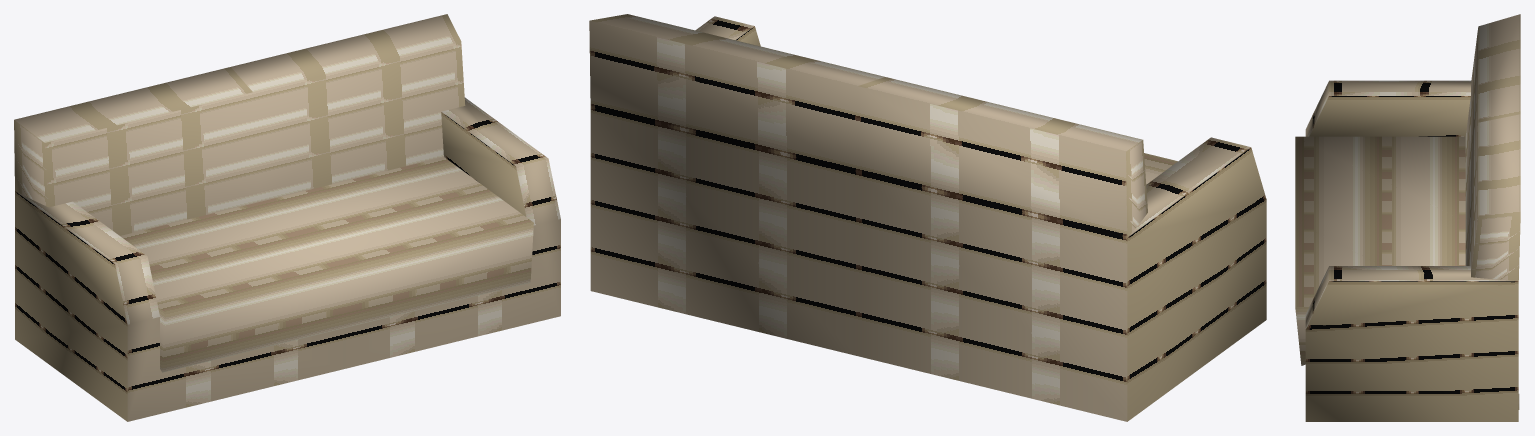
Rendered from 3225IMSD01_11.gltf.
The picture shows the model from 3 angles, left to right: view 1: azimuth 30°, elevation 25°; view 2: azimuth 150°, elevation 25°; view 3: azimuth 270°, elevation 25°; orthographic projection. The views are drawn at different scales.
Visible parts, largest first — view 1: 3225IMSD01_11; view 2: 3225IMSD01_11; view 3: 3225IMSD01_11.
Boxes of the visible parts, left/top/right/bottom form: 3225IMSD01_11: left=14, top=14, right=560, bottom=421; 3225IMSD01_11: left=589, top=14, right=1266, bottom=421; 3225IMSD01_11: left=1295, top=14, right=1520, bottom=421.
Size of the model in its own units: 1.89 by 0.9143 by 0.9001.
Materials: 4 (4 with a texture image).
